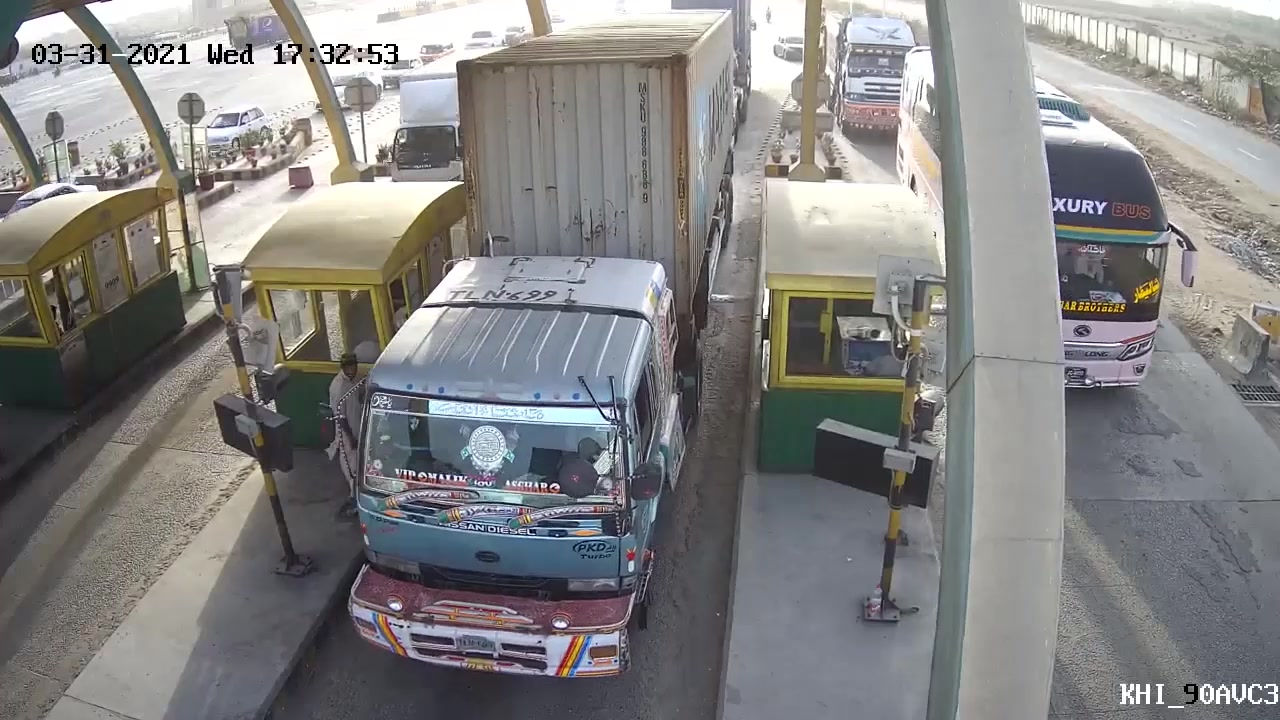F6: (345, 4, 747, 677)
